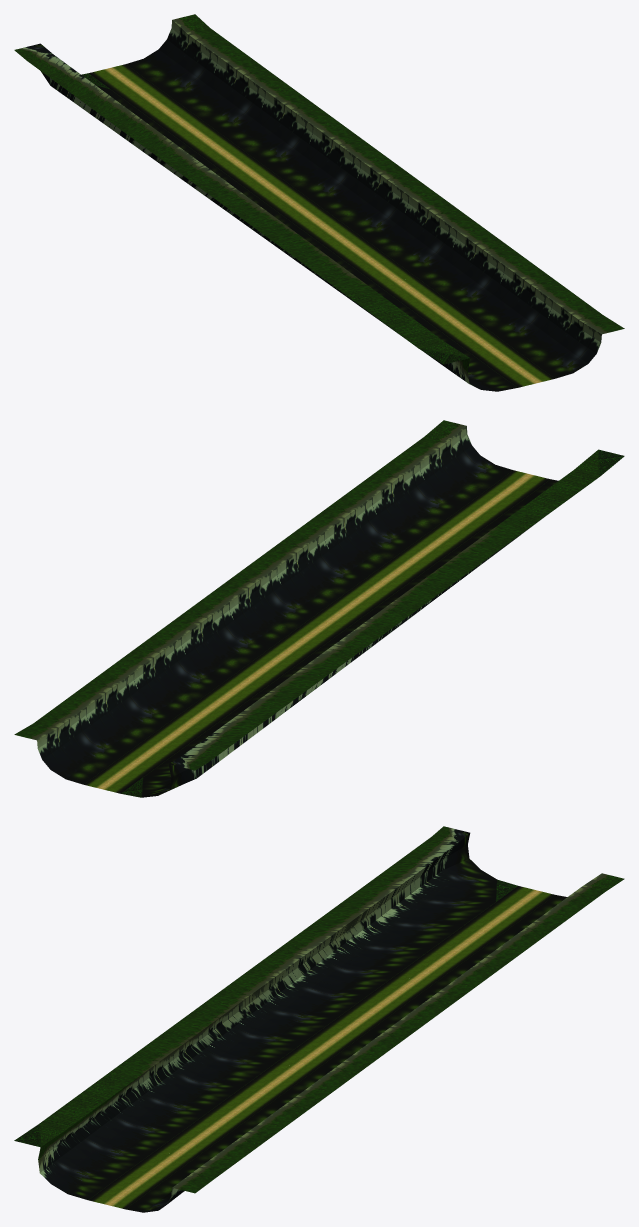
Rendered from street_2.fbx.
The picture shows the model from 3 angles, top to bottom: view 1: azimuth 30°, elevation 25°; view 2: azimuth 150°, elevation 25°; view 3: azimuth 330°, elevation 25°; orthographic projection.
Visible parts, largest first — view 1: polySurface1924, Object01; view 2: polySurface1924, Object01; view 3: polySurface1924, Object01.
Boxes of the visible parts, x1=… form: polySurface1924: x1=14, y1=14, x2=624, y2=391; Object01: x1=102, y1=66, x2=544, y2=384; polySurface1924: x1=14, y1=420, x2=624, y2=797; Object01: x1=94, y1=472, x2=536, y2=790; polySurface1924: x1=14, y1=826, x2=624, y2=1212; Object01: x1=102, y1=889, x2=544, y2=1206.
Bounding box in the file's own units: 18605 × 4049 × 76200.
